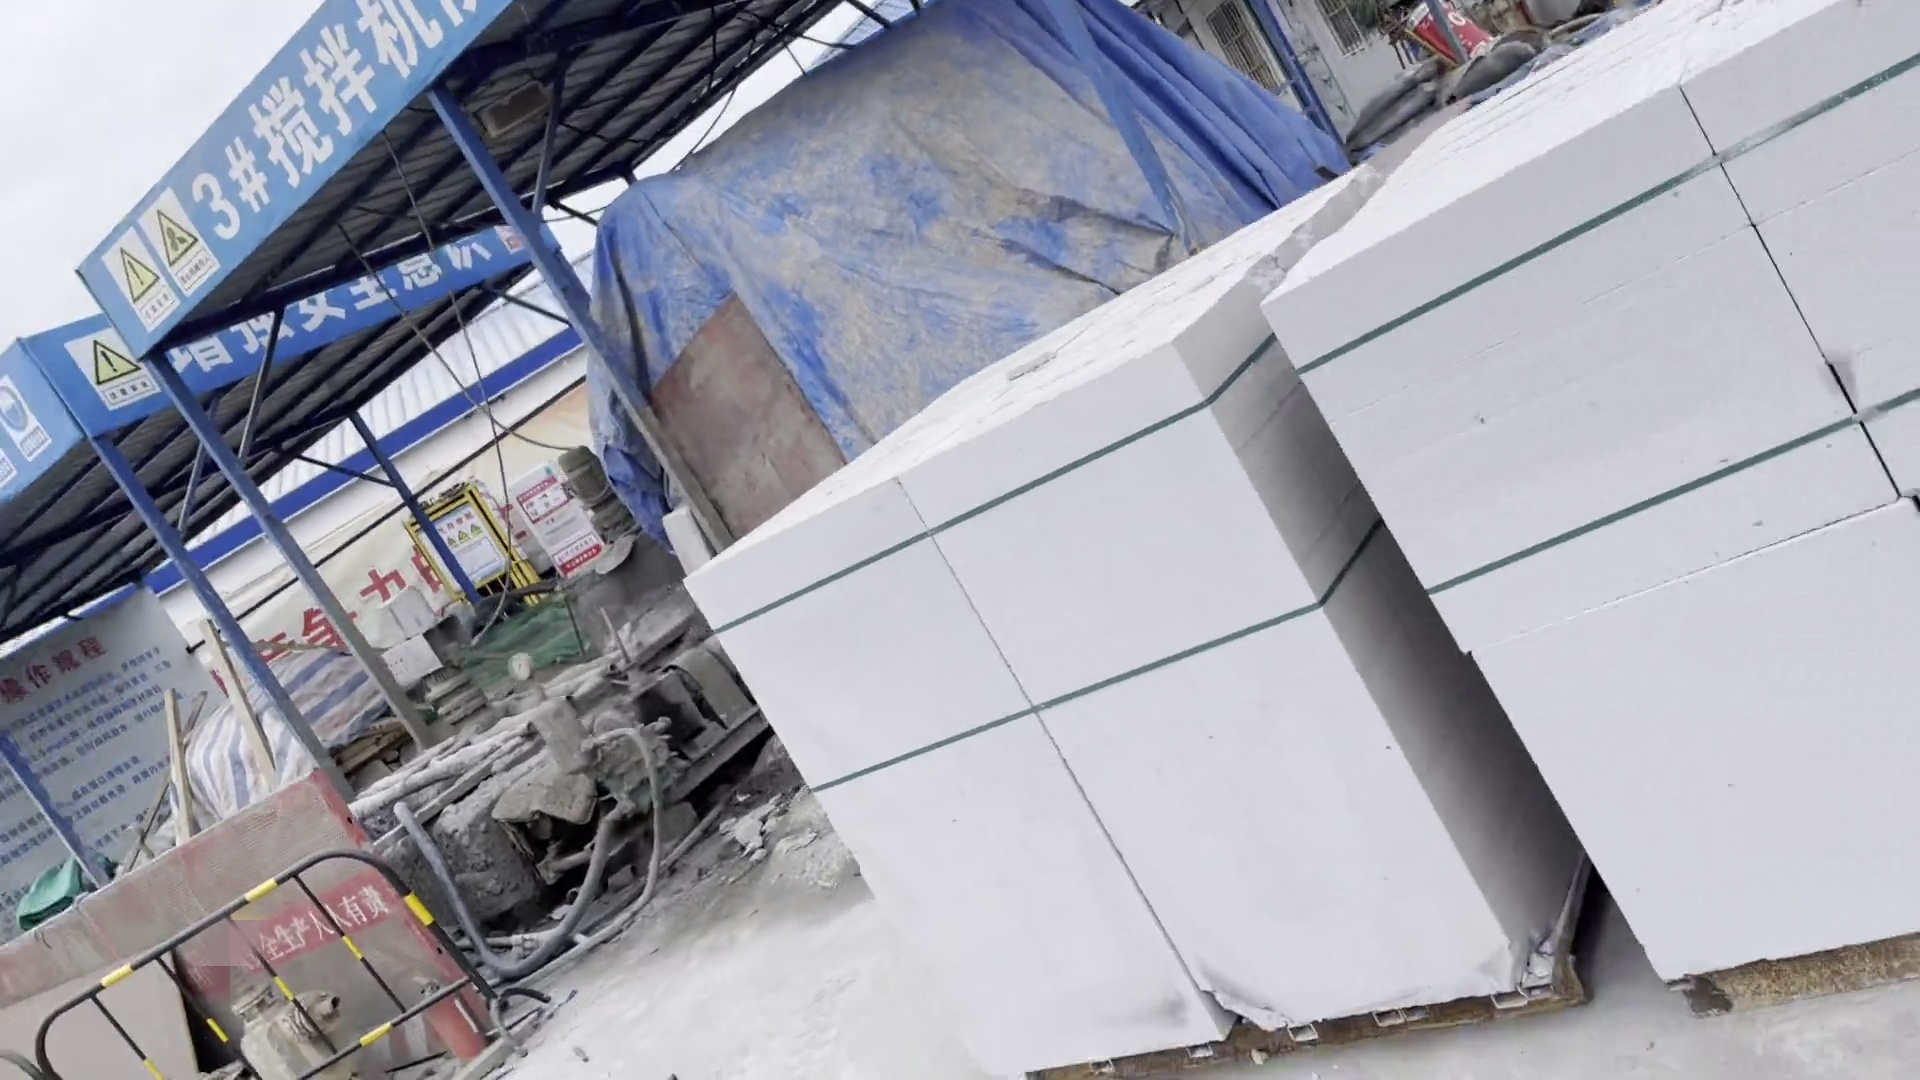brick: (682, 154, 1640, 1080), (1251, 4, 1920, 1054)
